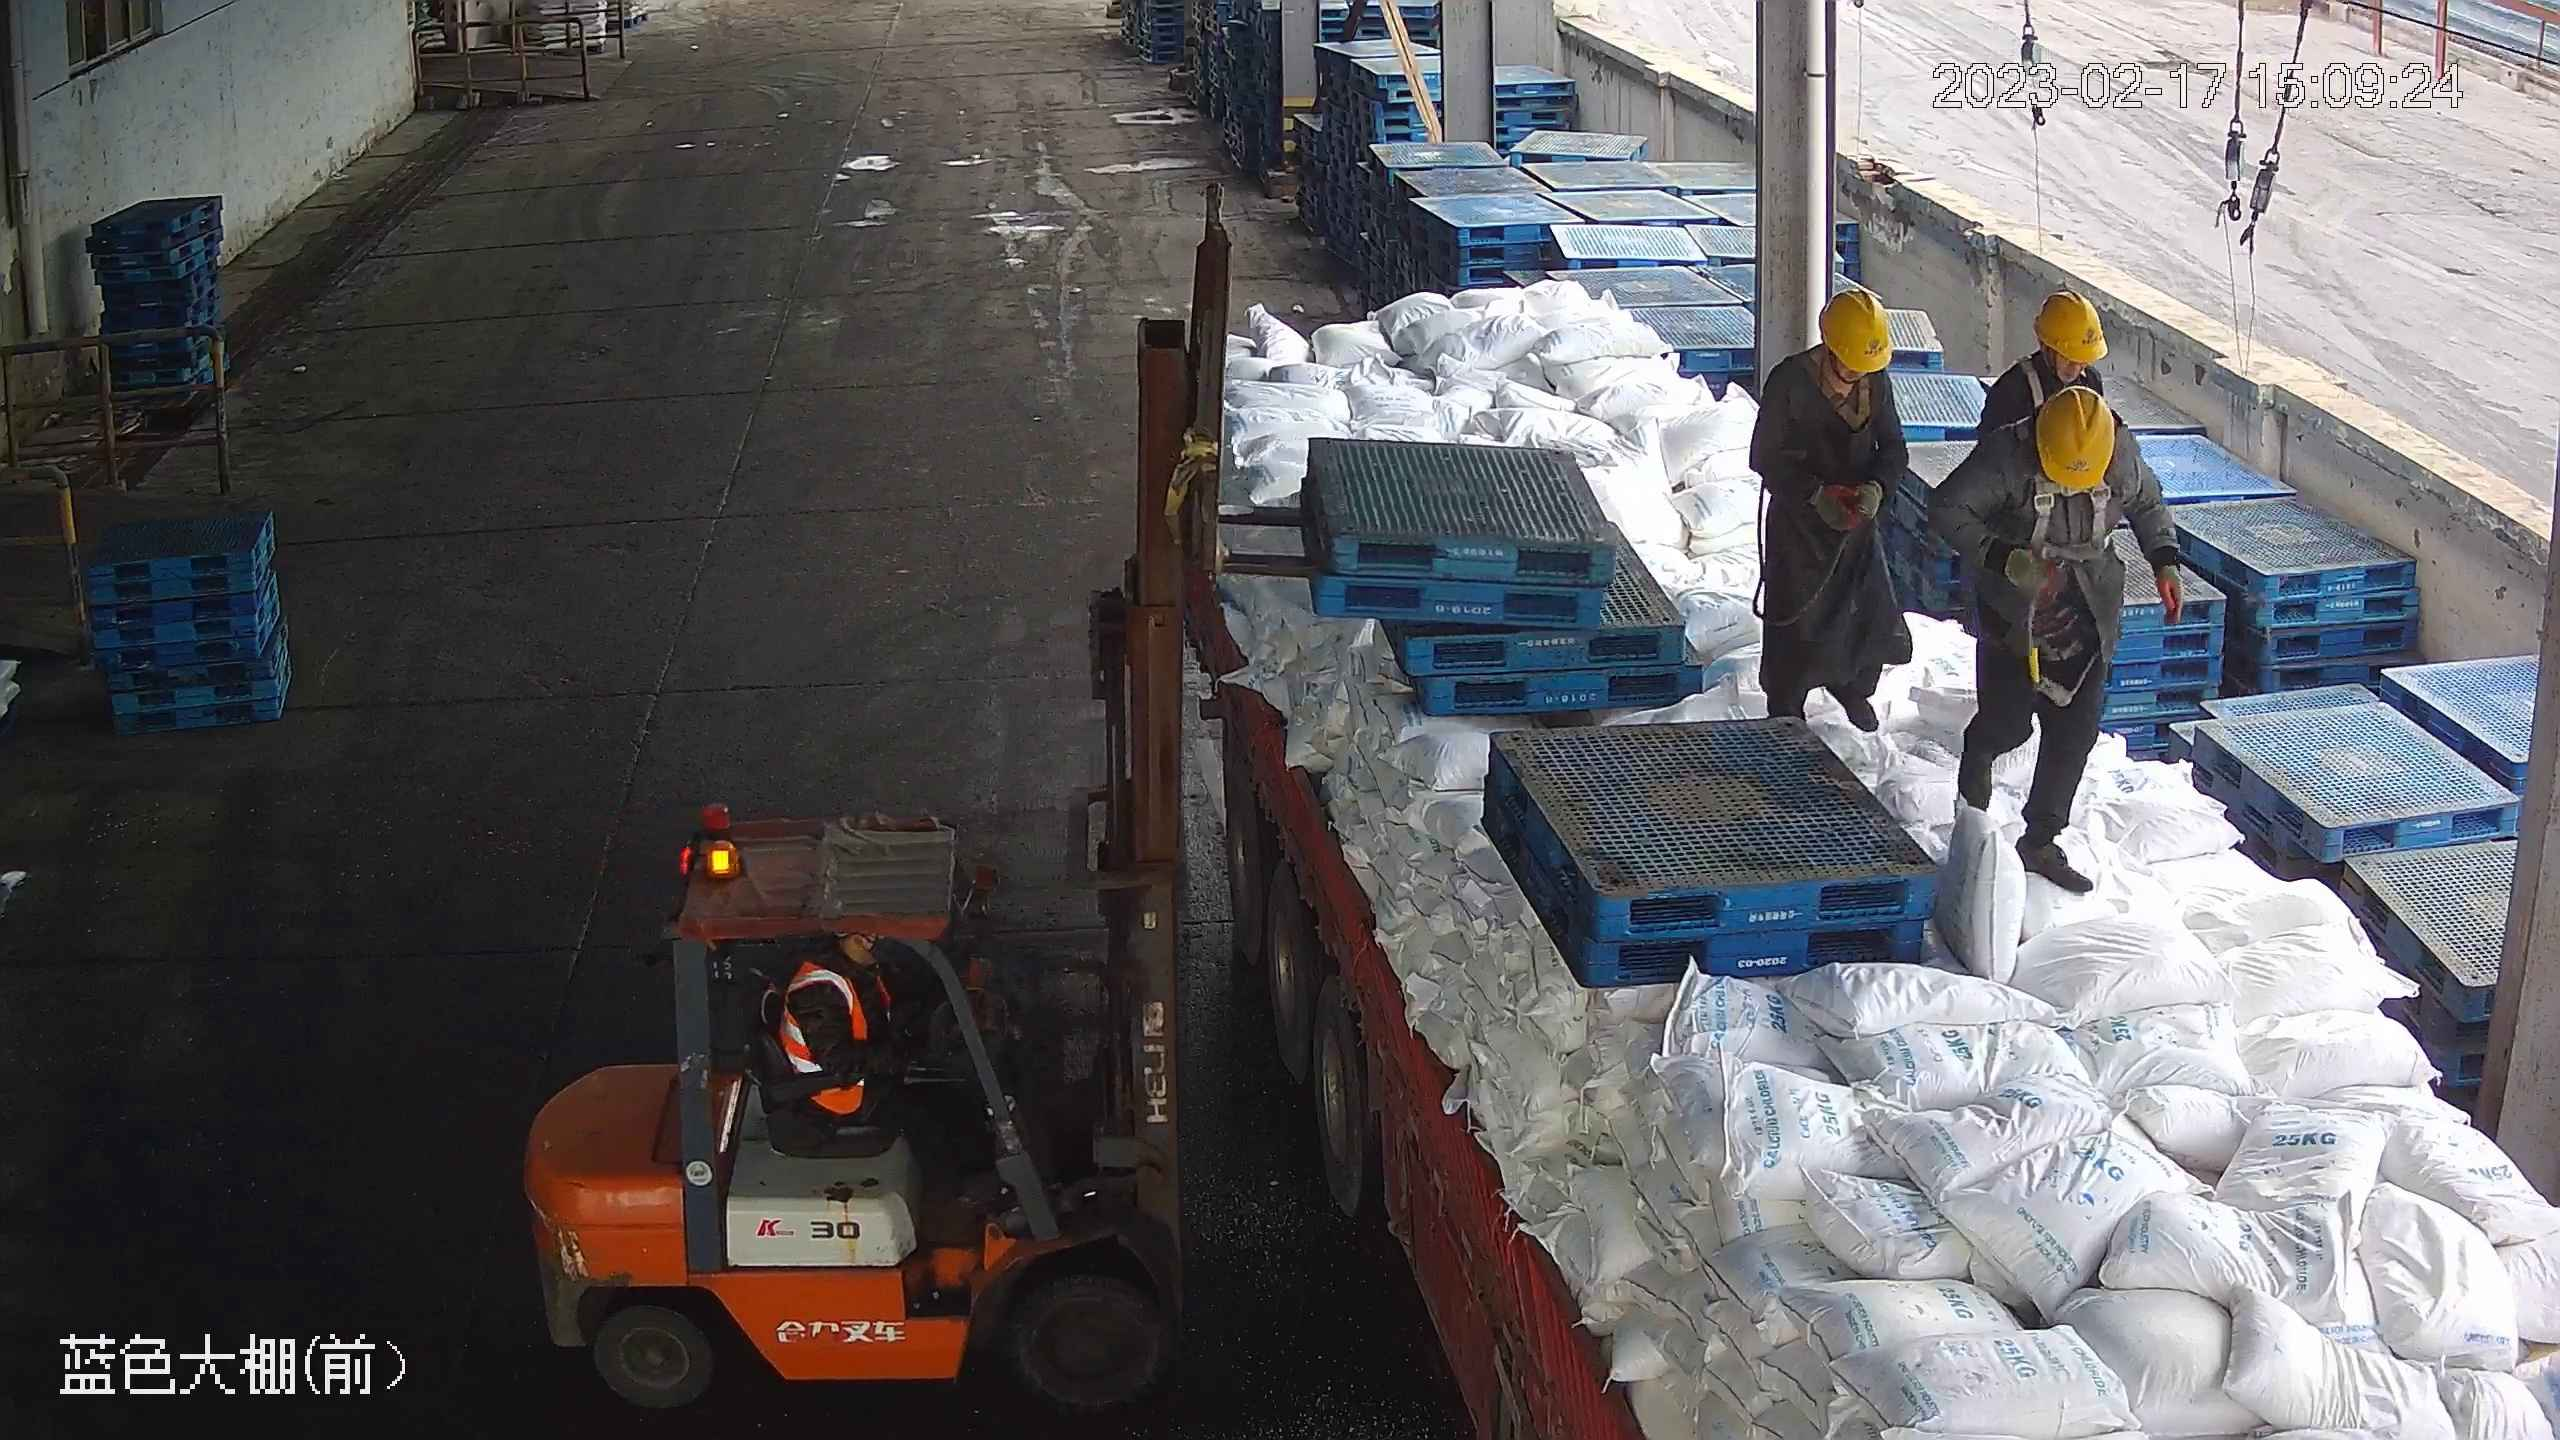belt: (2009, 470, 2126, 691), (1782, 360, 1888, 437)
head: (1969, 386, 2159, 556), (1751, 292, 1906, 448), (1983, 287, 2112, 400)
helmet: (2031, 387, 2115, 491), (1821, 289, 1895, 372), (2033, 287, 2108, 363)
people: (1924, 387, 2185, 901), (1749, 288, 1923, 737), (776, 927, 1018, 1242)
truck: (1198, 323, 2560, 1440)
